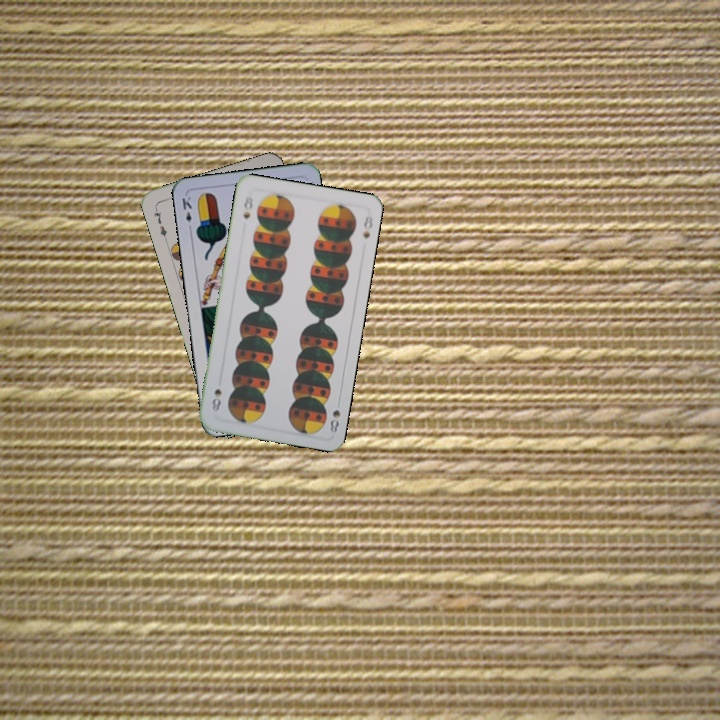E7: (150, 203, 170, 243)
EK: (178, 192, 194, 233)
S8: (326, 395, 343, 435), (239, 192, 255, 221)
